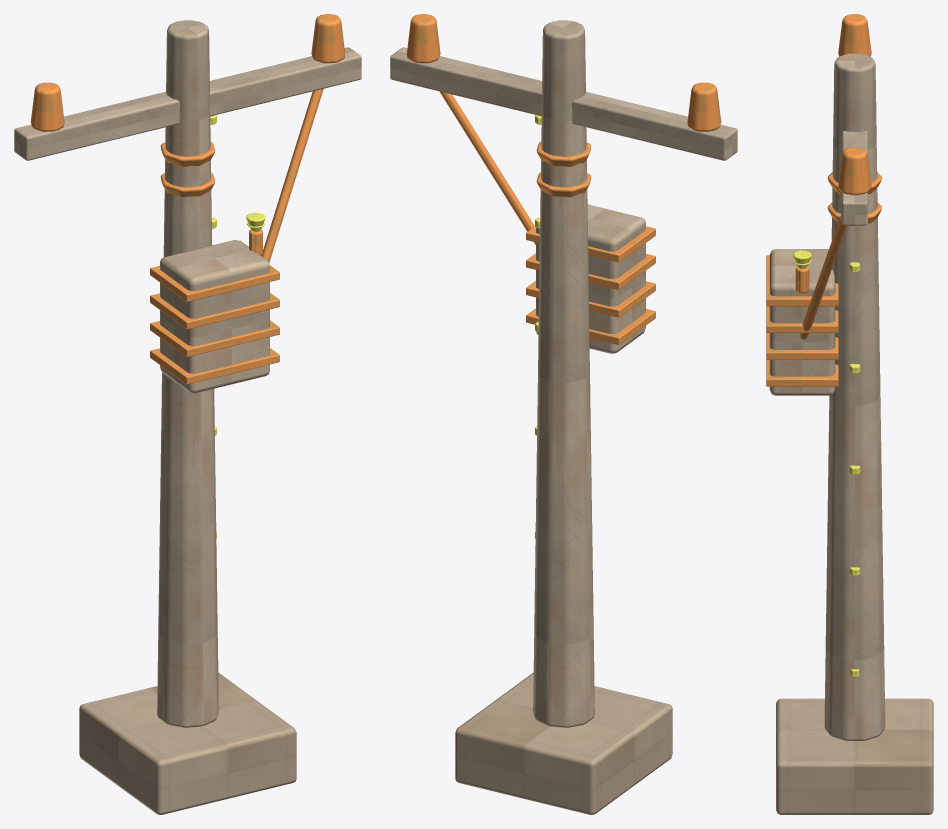
File: ff-pole.glb
The picture shows the model from 3 angles, left to right: view 1: azimuth 30°, elevation 25°; view 2: azimuth 150°, elevation 25°; view 3: azimuth 270°, elevation 25°; orthographic projection. The views are drawn at different scales.
Visible parts, largest first — view 1: Mast, Footing, Crossarm, WireNub, Insulator; view 2: Mast, Footing, Crossarm, WireNub, Insulator; view 3: Mast, Footing, WireNub, Insulator, Crossarm, Bolt.011.
Part boxes in pixels (bbox=[...]): Mast: bbox=[157, 20, 269, 727]; Footing: bbox=[79, 672, 296, 814]; Crossarm: bbox=[14, 47, 361, 160]; WireNub: bbox=[150, 89, 323, 384]; Insulator: bbox=[30, 14, 345, 197]; Mast: bbox=[533, 20, 645, 727]; Footing: bbox=[455, 672, 672, 814]; Crossarm: bbox=[390, 47, 737, 160]; WireNub: bbox=[439, 91, 655, 344]; Insulator: bbox=[406, 14, 721, 197]; Mast: bbox=[769, 53, 885, 740]; Footing: bbox=[776, 698, 933, 814]; WireNub: bbox=[766, 214, 846, 386]; Insulator: bbox=[827, 14, 881, 225]; Crossarm: bbox=[841, 131, 867, 225]; Bolt.011: bbox=[793, 250, 860, 677].
Size of the model in its own units: 1.15 by 2.43 by 0.51.
Materials: 7 (7 with a texture image).
